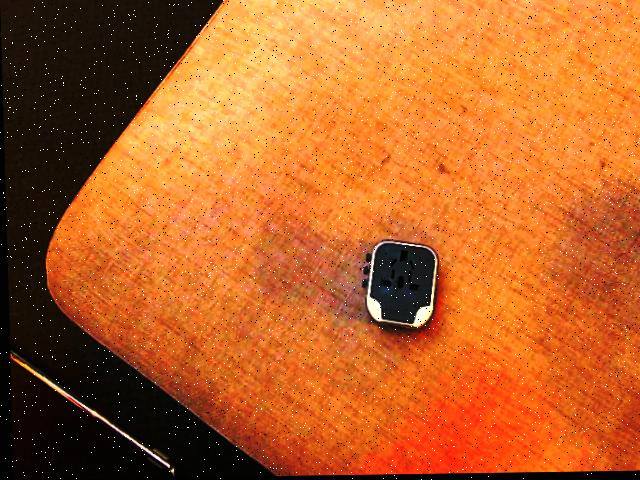adapter: (358, 240, 437, 331)
